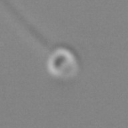normal: (1, 1, 52, 52)
